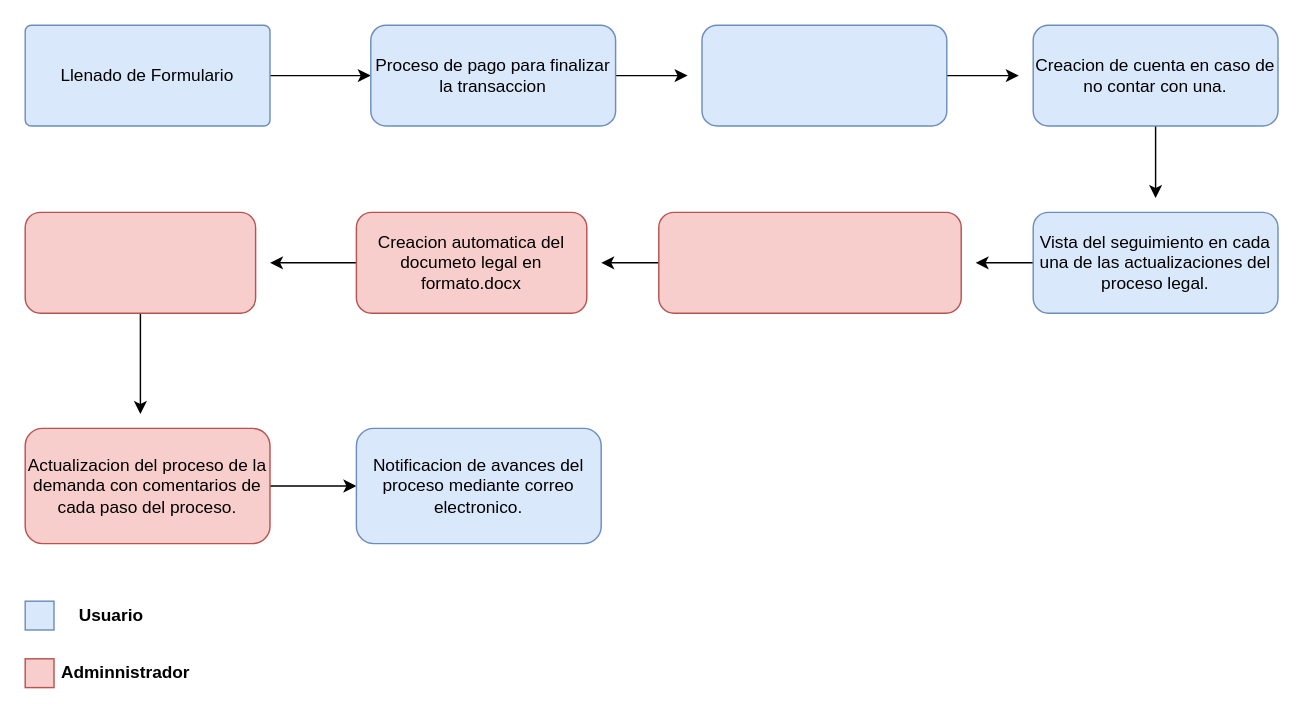
Some shapes in this 1303 by 720 pixel diagram are drawn without their labels. Each missing label, with the box of its shape:
Envio de formulario: (701, 24, 947, 126)
Notificacion de una nueva demanda.: (657, 211, 961, 313)
Revision de pago acreditado correctamente.: (24, 211, 256, 313)
